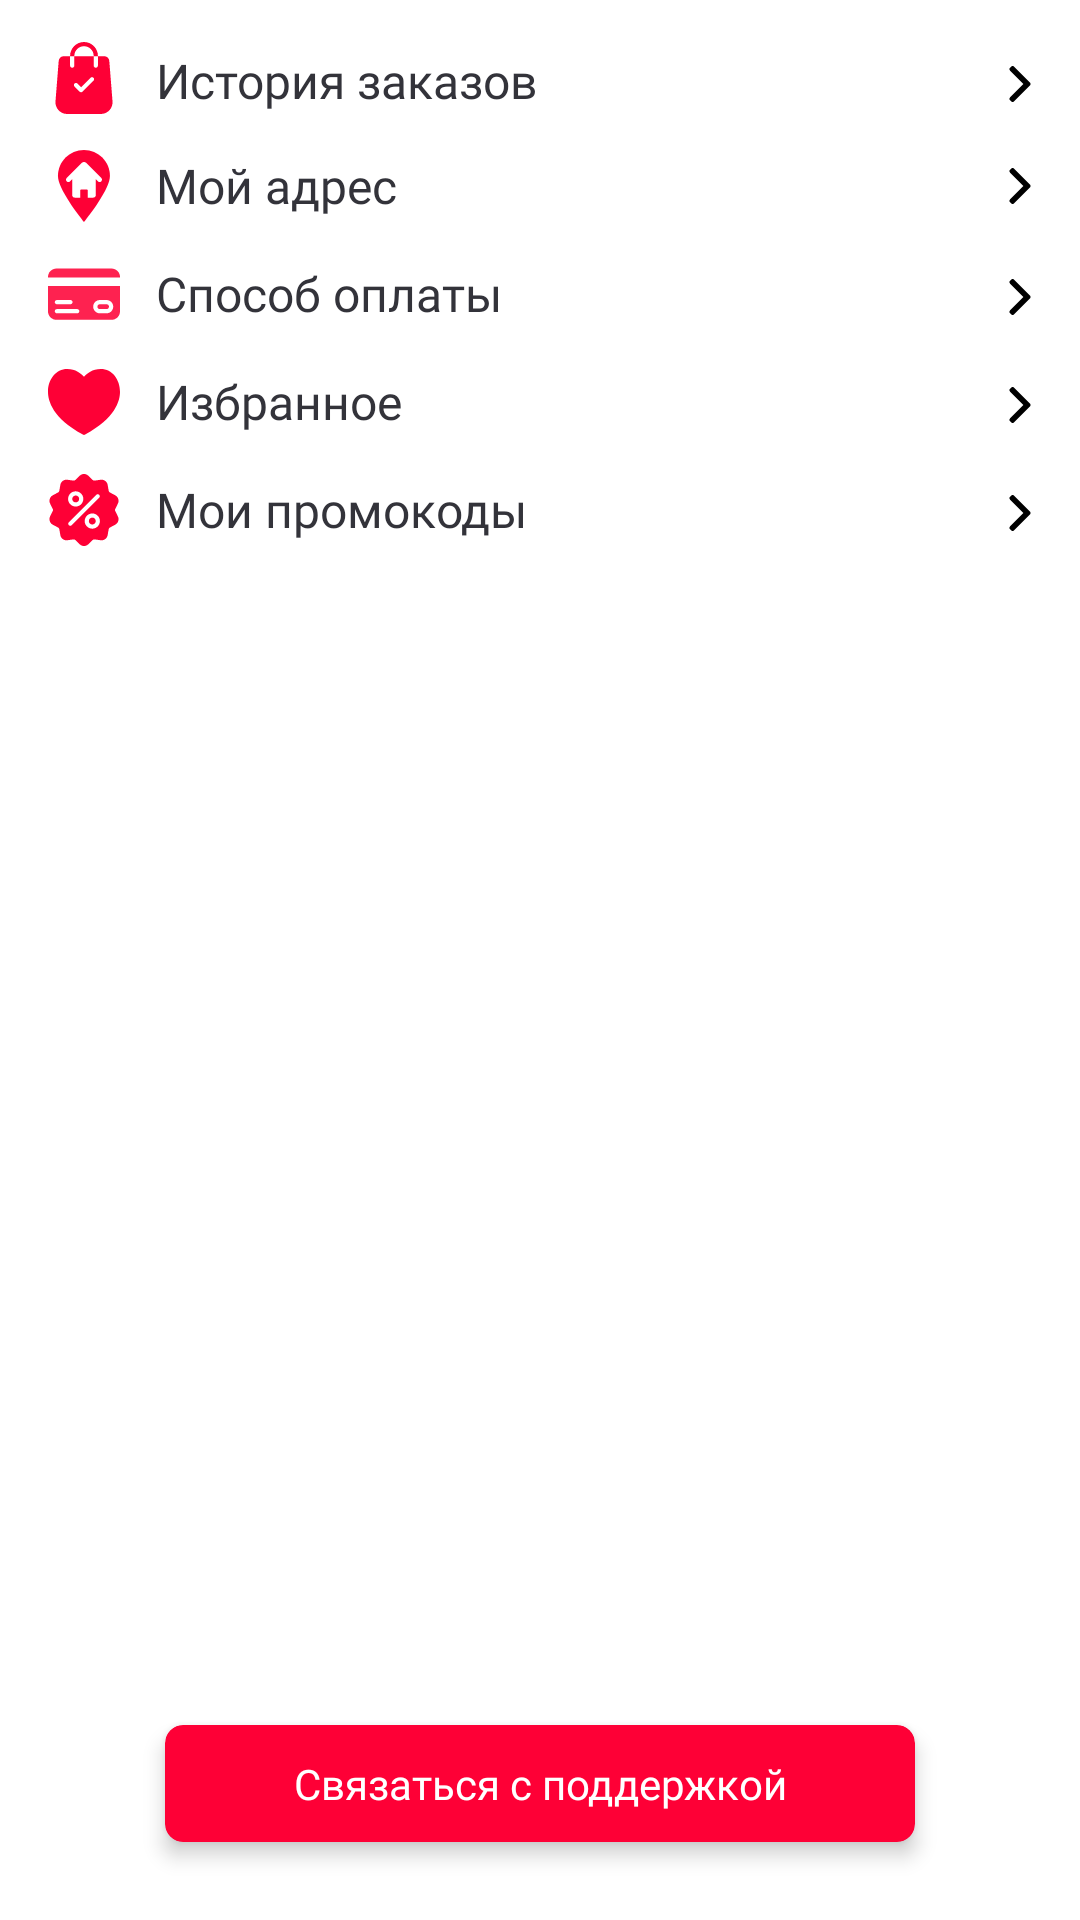

Screen size 1080×1920. Icon name, then its center in pixels as (x,y):
address: (84,186)
arrow: (1020,84), (1020,186), (1020,297), (1020,405), (1020,513)
passion: (84,402)
pay: (84,294)
sale: (84,510)
shopping bag: (84,78)
